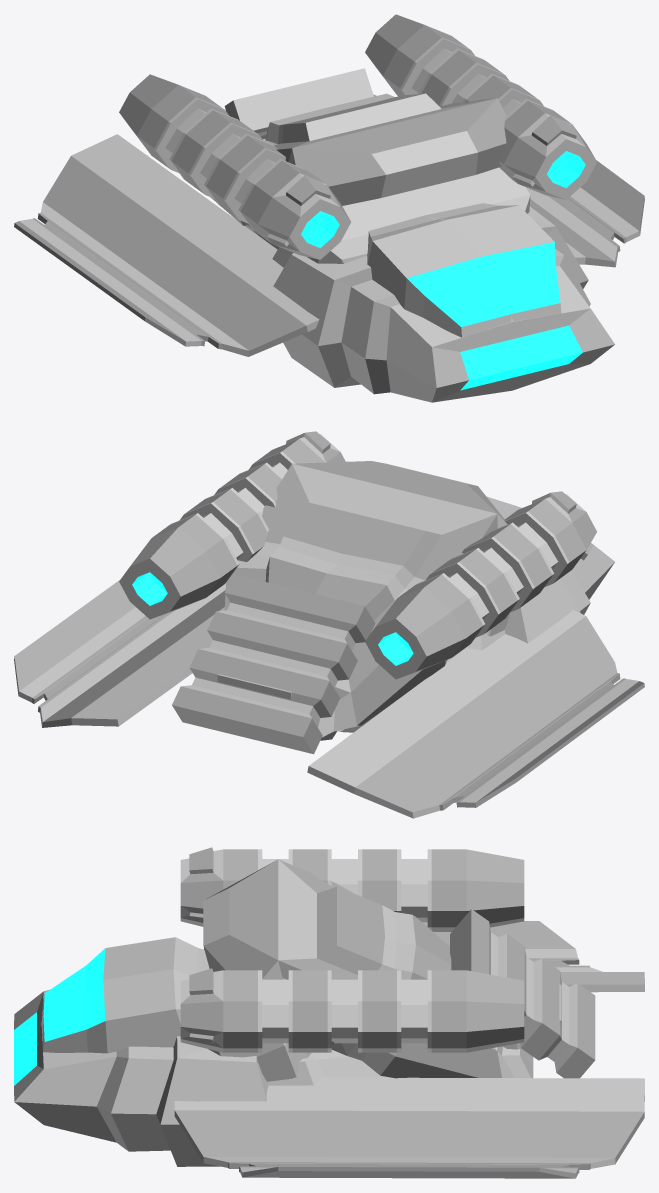
Rendered from spaceship 4 white.fbx.
3 renders of one model, top to bottom at view 1: azimuth 30°, elevation 25°; view 2: azimuth 150°, elevation 25°; view 3: azimuth 270°, elevation 25°, orthographic.
Parts seen in each view (by area): view 1: Cube.023; view 2: Cube.023; view 3: Cube.023.
Part boxes in pixels (bbox=[...]): Cube.023: bbox=[14, 14, 644, 402]; Cube.023: bbox=[14, 431, 644, 818]; Cube.023: bbox=[14, 847, 644, 1178].
Size of the model in its own units: 591 by 242 by 638.
